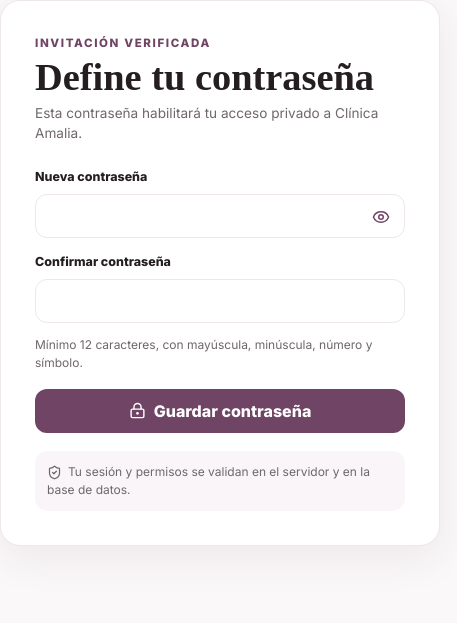
Test: SetPasswordForm › envía una contraseña nueva y su confirmación
The width and height of the screenshot is (457, 623).
Type "Amalia2026!Segura" into the password field labelled "Nueva contraseña". click: {"x": 220, "y": 216}
box: [35,194,405,238]
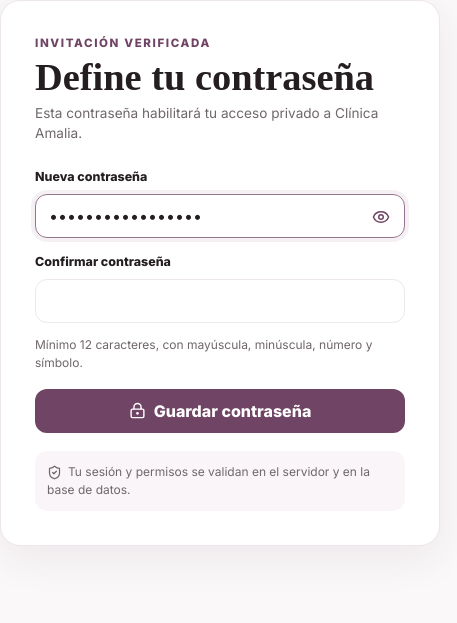
Type "Amalia2026!Segura" into the password field labelled "Confirmar contraseña". click: {"x": 220, "y": 301}
box: [35,279,405,323]
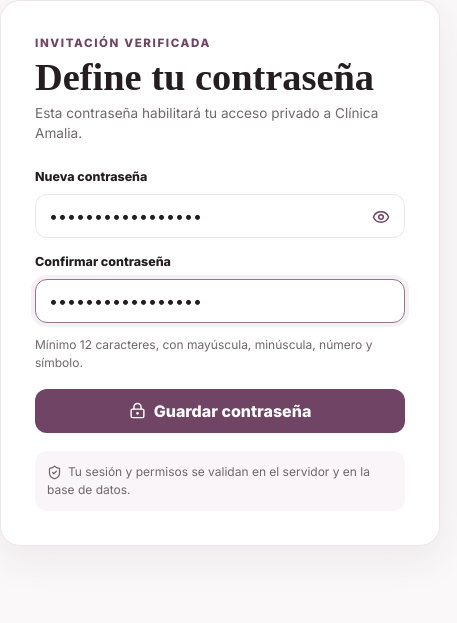
Click the button "Guardar contraseña". click: {"x": 220, "y": 411}
box: [35,389,405,433]
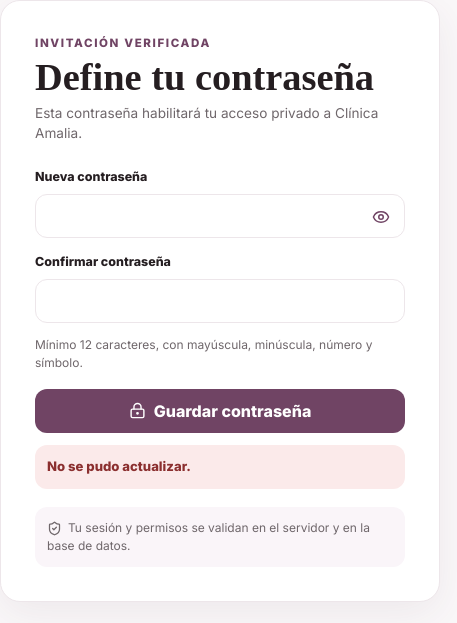
Expected: the message reads "No se pudo actualizar.", [47,458,191,474]
